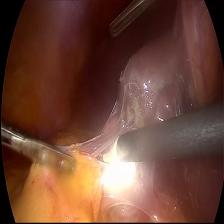Grasper: (0, 122, 78, 185), (104, 0, 153, 45)
Hook: (92, 129, 128, 170)
